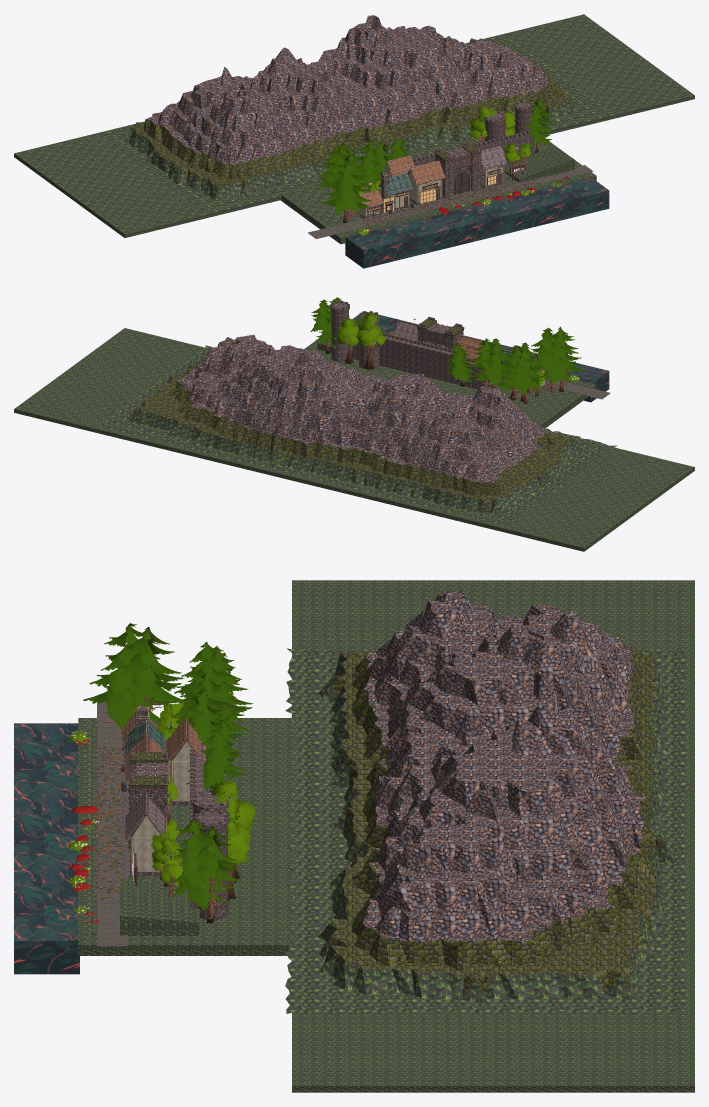
The model's file is byn.glb.
The picture shows the model from 3 angles, top to bottom: view 1: azimuth 30°, elevation 25°; view 2: azimuth 150°, elevation 25°; view 3: azimuth 270°, elevation 25°; orthographic projection. The views are drawn at different scales.
Parts seen in each view (by area): view 1: Mountain_Range, Mountain_Ground, Cliff_Face, Grass_Main, Road_Bed, Gate, Pine_Tree_0, Pasture_Hill, Tavern, Smith, Jeweler, Foreground_Grass_Ledge (+8 smaller); view 2: Mountain_Range, Mountain_Ground, Grass_Main, BG_Castle_Wall, Cliff_Face, Pine_Tree_0, Gate, Deciduous_Tree_9, Pine_Tree_1, Pine_Tree_4, Pine_Tree_8, Pine_Tree_5 (+8 smaller); view 3: Mountain_Range, Mountain_Ground, Grass_Main, Cliff_Face, Road_Bed, Pasture_Hill, Pine_Tree_0, Pine_Tree_1, Jeweler, Pine_Tree_6, Foreground_Grass_Ledge, BG_House (+10 smaller).
Part boxes in pixels (x1,y1,x2,y2): Mountain_Range: [99, 15, 616, 215]; Mountain_Ground: [14, 14, 694, 237]; Cliff_Face: [345, 177, 609, 268]; Grass_Main: [280, 141, 596, 244]; Road_Bed: [308, 165, 593, 238]; Gate: [434, 142, 481, 198]; Pine_Tree_0: [322, 159, 372, 223]; Pasture_Hill: [504, 147, 574, 182]; Tavern: [407, 160, 445, 205]; Smith: [378, 172, 412, 213]; Jeweler: [481, 145, 507, 188]; Foreground_Grass_Ledge: [347, 174, 582, 233]; Mountain_Range: [100, 334, 617, 524]; Mountain_Ground: [14, 328, 694, 551]; Grass_Main: [304, 326, 596, 428]; BG_Castle_Wall: [352, 335, 492, 389]; Cliff_Face: [352, 311, 609, 402]; Pine_Tree_0: [543, 326, 587, 391]; Gate: [417, 316, 464, 349]; Deciduous_Tree_9: [355, 312, 386, 370]; Pine_Tree_1: [530, 327, 572, 392]; Pine_Tree_4: [473, 338, 507, 388]; Pine_Tree_8: [502, 347, 543, 403]; Pine_Tree_5: [444, 343, 477, 386]; Mountain_Range: [285, 590, 689, 1014]; Mountain_Ground: [292, 580, 694, 1092]; Grass_Main: [78, 718, 298, 955]; Cliff_Face: [14, 723, 79, 974]; Road_Bed: [97, 700, 128, 946]; Pasture_Hill: [119, 879, 199, 935]; Pine_Tree_0: [83, 623, 176, 729]; Pine_Tree_1: [114, 626, 187, 711]; Jeweler: [125, 792, 166, 875]; Pine_Tree_6: [170, 819, 234, 916]; Foreground_Grass_Ledge: [86, 727, 97, 934]; BG_House: [165, 718, 206, 859].
Bounding box in the file's own units: 98 × 17.46 × 55.78.
25 materials, 24 textured.
